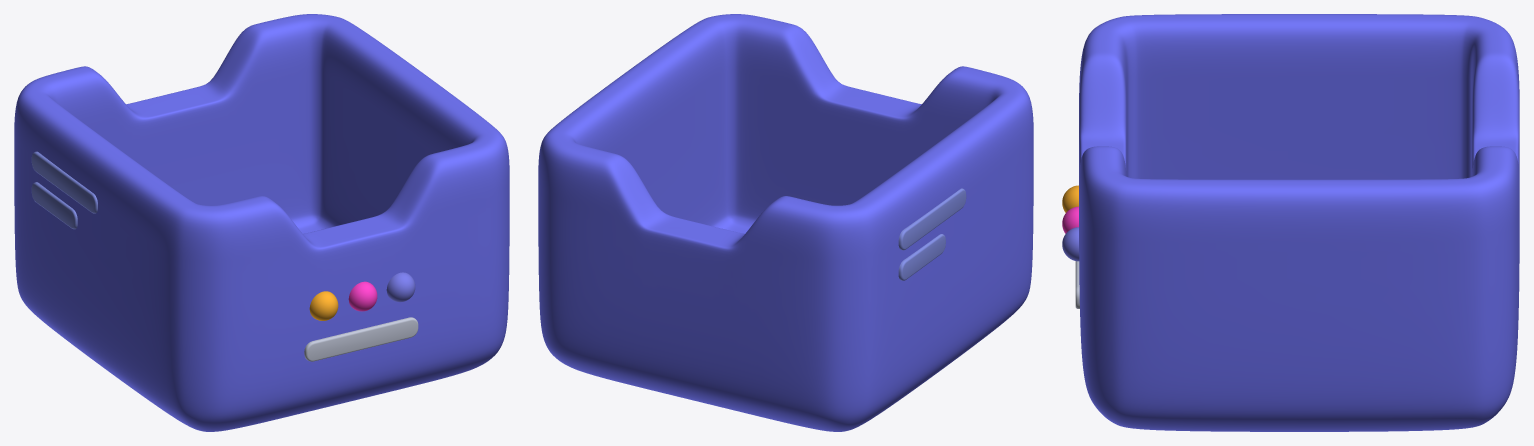
File: uploading-animated-3d-icon-895777372629.glb
3 renders of one model, left to right at view 1: azimuth 30°, elevation 25°; view 2: azimuth 150°, elevation 25°; view 3: azimuth 270°, elevation 25°, orthographic. The views are drawn at different scales.
Parts seen in each view (by area): view 1: Machine, Screen, Text, LED 2, LED 3, LED 1; view 2: Machine, Text; view 3: Machine, LED 3.
Part boxes in pixels (x1,y1,x2,y2): Machine: [14, 14, 509, 431]; Screen: [304, 317, 418, 361]; Text: [31, 151, 97, 229]; LED 2: [348, 281, 377, 311]; LED 3: [386, 272, 415, 302]; LED 1: [309, 291, 338, 320]; Machine: [538, 14, 1033, 431]; Text: [898, 188, 966, 280]; Machine: [1079, 14, 1519, 431]; LED 3: [1062, 227, 1079, 261].
Size of what is drawn, in the model's own units: 2.56 by 1.67 by 2.65.
